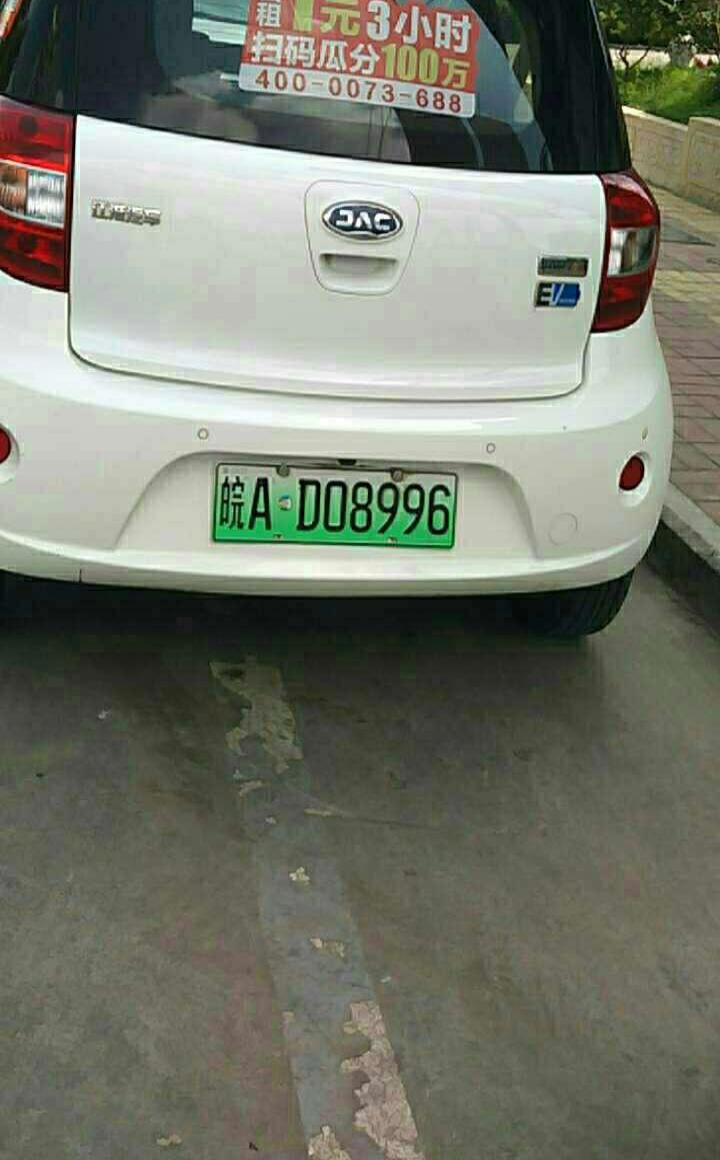car_id: (213, 466, 460, 546)
